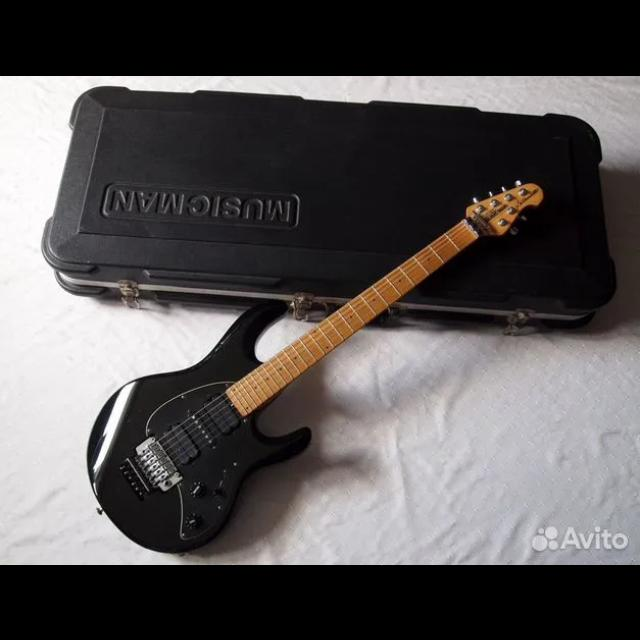Electric-Guitar: (87, 179, 543, 555)
